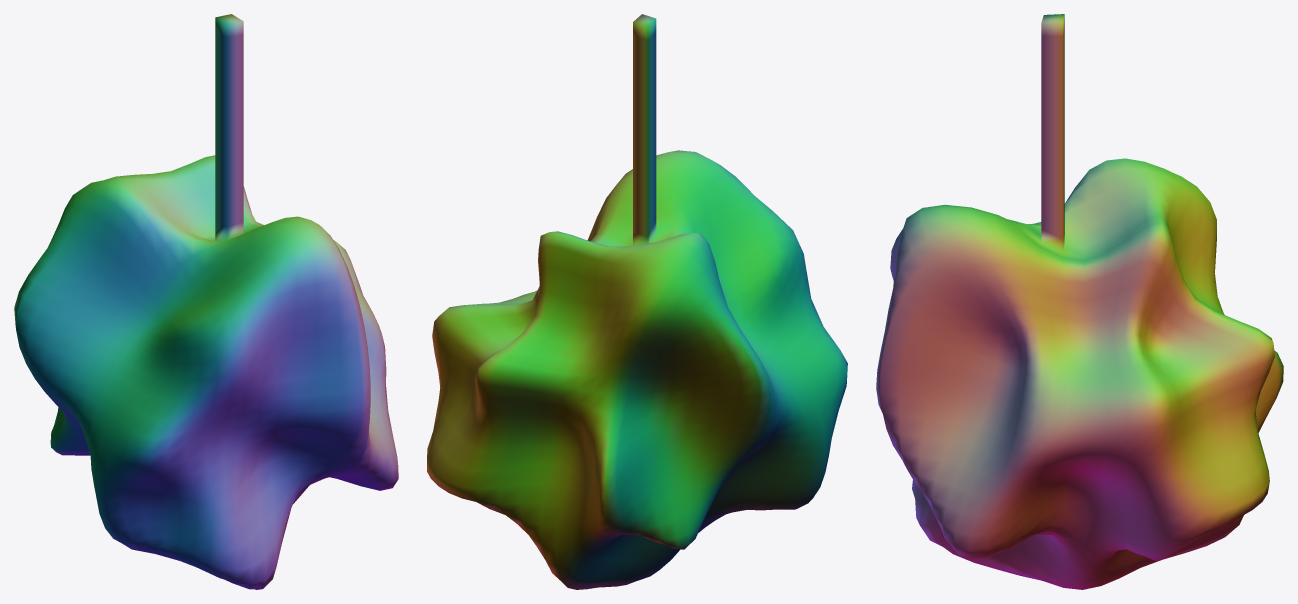
The model's file is SM_shaderTestMesh.fbx.
3 renders of one model, left to right at view 1: azimuth 30°, elevation 25°; view 2: azimuth 150°, elevation 25°; view 3: azimuth 270°, elevation 25°, orthographic. The views are drawn at different scales.
Parts seen in each view (by area): view 1: SM_shaderTestMesh; view 2: SM_shaderTestMesh; view 3: SM_shaderTestMesh.
Part boxes in pixels (x1,y1,x2,y2): SM_shaderTestMesh: (14, 14, 398, 589); SM_shaderTestMesh: (427, 14, 847, 589); SM_shaderTestMesh: (876, 14, 1283, 589).
Bounding box in the file's own units: 109 × 172 × 112.
